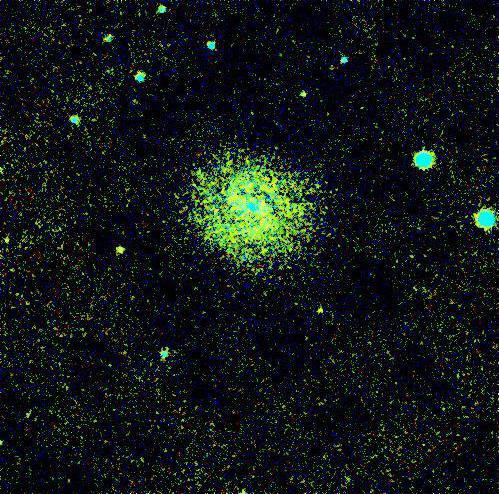star: (304, 297, 334, 327)
